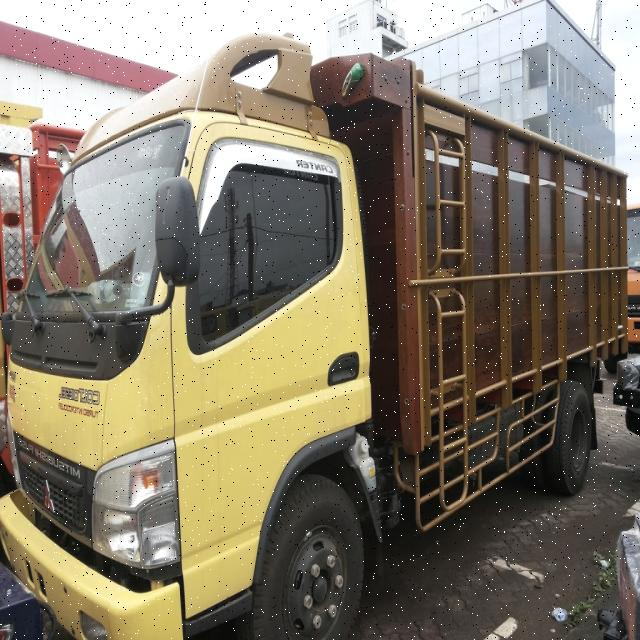truck: (0, 35, 628, 639)
